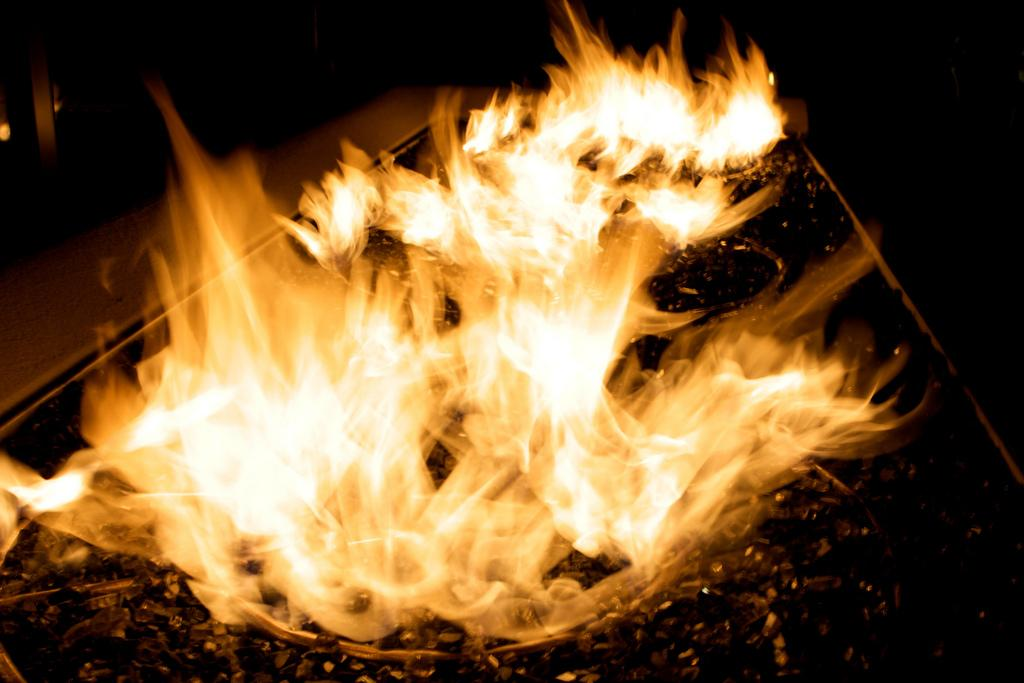fire: (160, 362, 402, 530), (478, 315, 613, 442), (647, 393, 808, 472), (470, 157, 588, 238), (602, 77, 698, 148)
